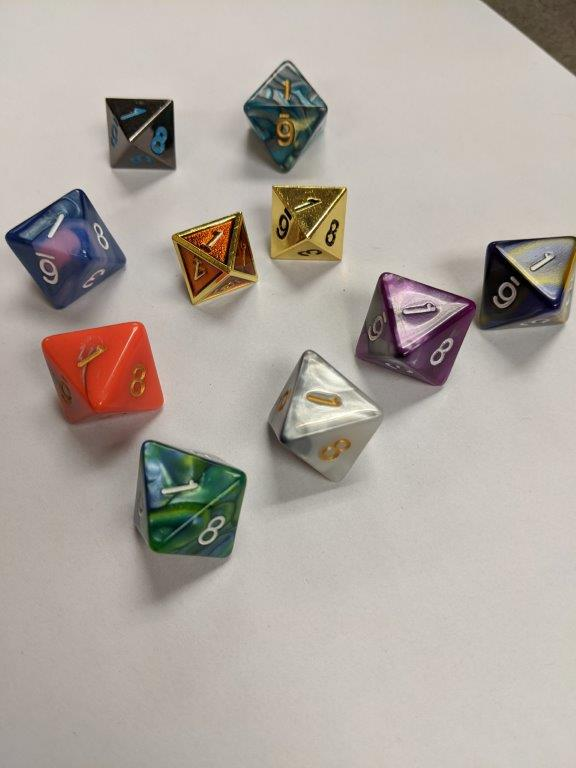d8-1: (265, 348, 387, 487), (6, 189, 129, 308), (130, 438, 247, 563), (353, 271, 474, 386), (41, 314, 166, 422), (244, 60, 328, 172), (477, 235, 576, 329), (170, 208, 260, 304), (270, 185, 347, 262), (105, 95, 177, 171)
